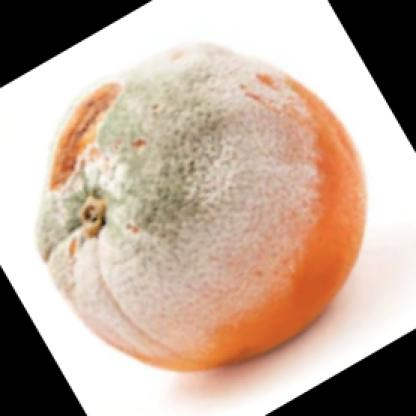rotten: (40, 45, 368, 373)
